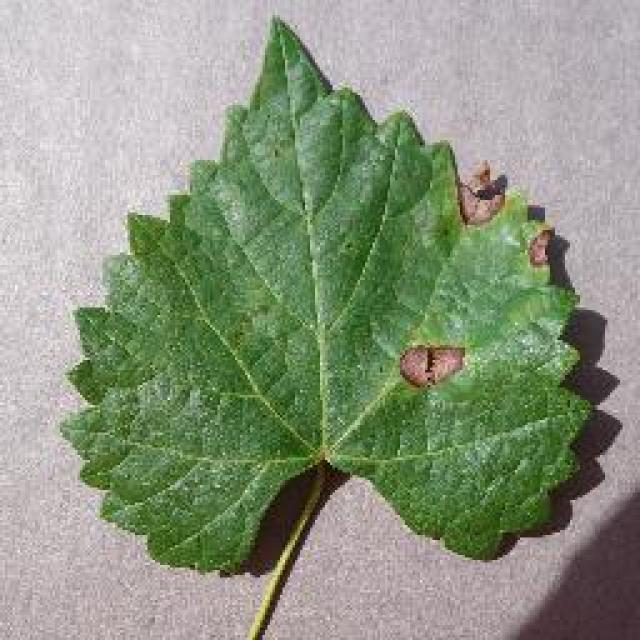Grape___Black_rot: (46, 12, 596, 638)
